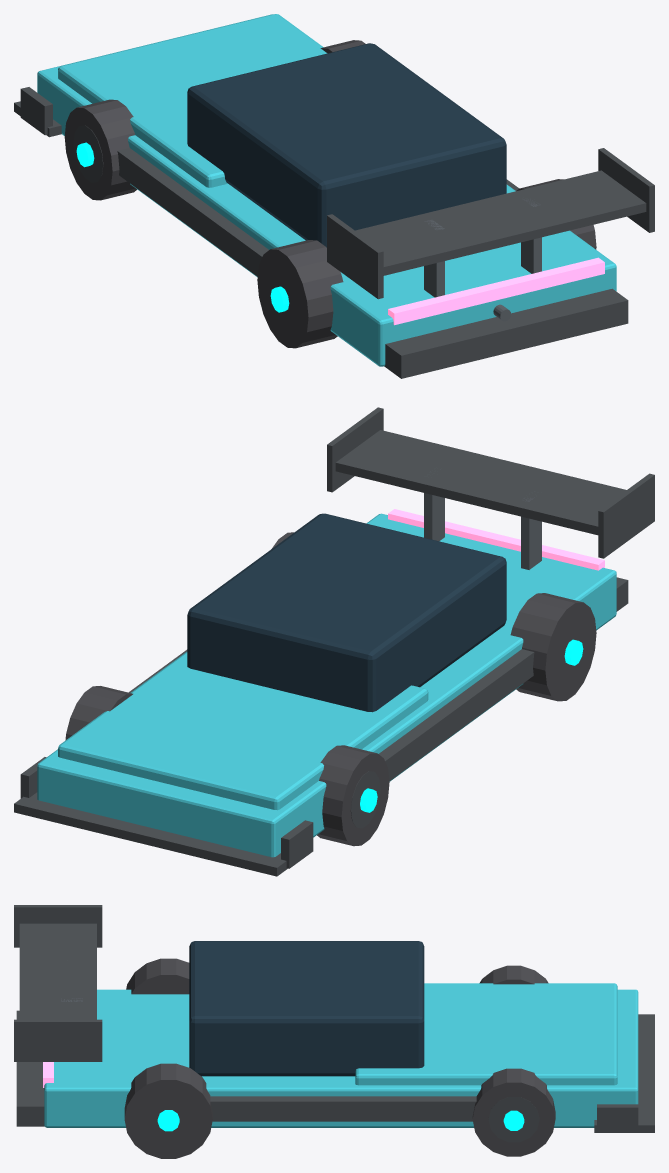
Rendered from apex_phantom.glb.
3 renders of one model, top to bottom at view 1: azimuth 30°, elevation 25°; view 2: azimuth 150°, elevation 25°; view 3: azimuth 270°, elevation 25°, orthographic. The views are drawn at different scales.
Parts seen in each view (by area): view 1: Canopy_Dome, Apex_Chassis, Apex_Nose, Wing_Blade, Rear_Diffuser, AP_W_RR_tire, Aero_Strake_R, AP_W_FR_tire, Neon_Taillight_Strip, Wing_Endplate_R, Wing_Endplate_L, Splitter_Winglet_R (+3 smaller); view 2: Canopy_Dome, Apex_Nose, Apex_Chassis, Wing_Blade, AP_W_RR_tire, Aero_Strake_R, Front_Splitter, AP_W_FR_tire, Wing_Endplate_R, Neon_Taillight_Strip, Wing_Endplate_L, AP_W_FL_tire (+4 smaller); view 3: Canopy_Dome, Apex_Chassis, Apex_Nose, Wing_Blade, Aero_Strake_L, AP_W_RL_tire, AP_W_FL_tire, Wing_Endplate_L, Front_Splitter, Wing_Endplate_R, AP_W_RR_tire, Rear_Diffuser (+4 smaller).
Boxes of the visible parts, x1,y1,x2,y2 form: Canopy_Dome: (187, 43, 506, 247); Apex_Chassis: (37, 14, 616, 366); Apex_Nose: (58, 14, 327, 187); Wing_Blade: (355, 170, 646, 275); Rear_Diffuser: (384, 288, 628, 378); AP_W_RR_tire: (257, 240, 343, 348); Aero_Strake_R: (117, 148, 268, 276); AP_W_FR_tire: (64, 99, 136, 200); Neon_Taillight_Strip: (388, 257, 604, 325); Wing_Endplate_R: (327, 214, 383, 299); Wing_Endplate_L: (598, 148, 654, 232); Splitter_Winglet_R: (20, 87, 52, 135); Canopy_Dome: (187, 513, 506, 712); Apex_Nose: (58, 652, 428, 810); Apex_Chassis: (37, 513, 616, 857); Wing_Blade: (335, 430, 626, 535); AP_W_RR_tire: (510, 593, 596, 701); Aero_Strake_R: (379, 649, 534, 780); Front_Splitter: (14, 792, 287, 876); AP_W_FR_tire: (317, 745, 389, 846); Wing_Endplate_R: (598, 473, 654, 558); Neon_Taillight_Strip: (388, 509, 604, 570); Wing_Endplate_L: (327, 407, 383, 492); AP_W_FL_tire: (65, 686, 132, 740); Canopy_Dome: (189, 941, 424, 1076); Apex_Chassis: (44, 989, 638, 1127); Apex_Nose: (355, 983, 617, 1085); Wing_Blade: (19, 923, 96, 1019); Aero_Strake_L: (210, 1096, 476, 1121); AP_W_RL_tire: (124, 1063, 212, 1158); AP_W_FL_tire: (472, 1068, 555, 1156); Wing_Endplate_L: (14, 1019, 102, 1061); Front_Splitter: (594, 1014, 654, 1132); Wing_Endplate_R: (14, 905, 102, 947); AP_W_RR_tire: (126, 958, 189, 994); Rear_Diffuser: (16, 1010, 44, 1126).
Size of the model in its own units: 2.17 by 1.08 by 4.64.
